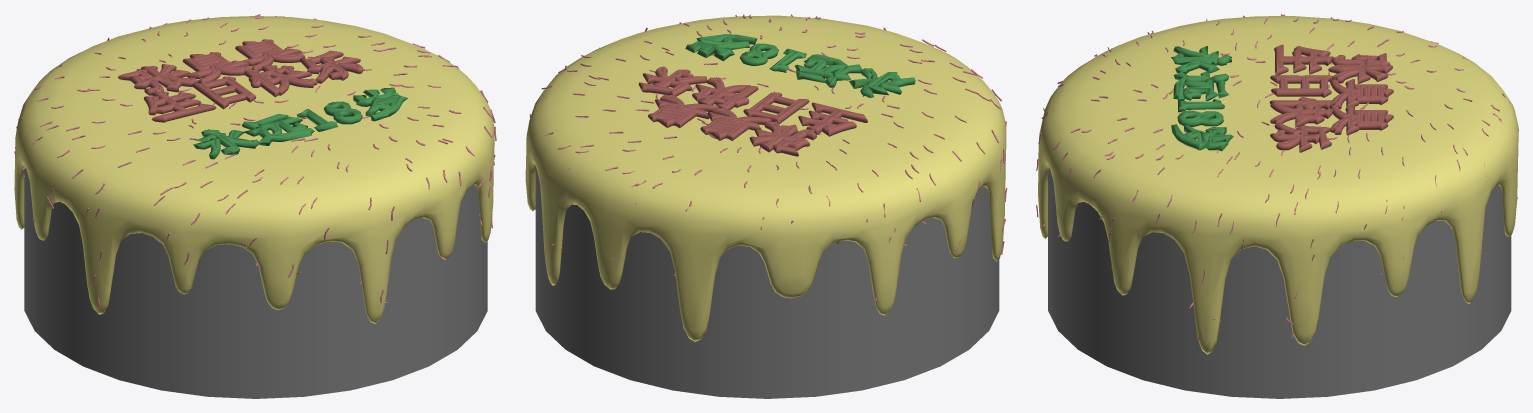
Rendered from cake.fbx.
3 views of the same model, side by side, from view 1: azimuth 30°, elevation 25°; view 2: azimuth 150°, elevation 25°; view 3: azimuth 270°, elevation 25° (orthographic).
Visible parts, largest first — view 1: Germ; view 2: Germ; view 3: Germ.
Boxes of the visible parts, bbox=[...] form: Germ: bbox=[14, 14, 496, 398]; Germ: bbox=[525, 14, 1007, 398]; Germ: bbox=[1036, 14, 1518, 398].
Bounding box in the file's own units: 62.21 × 29.57 × 62.17.
